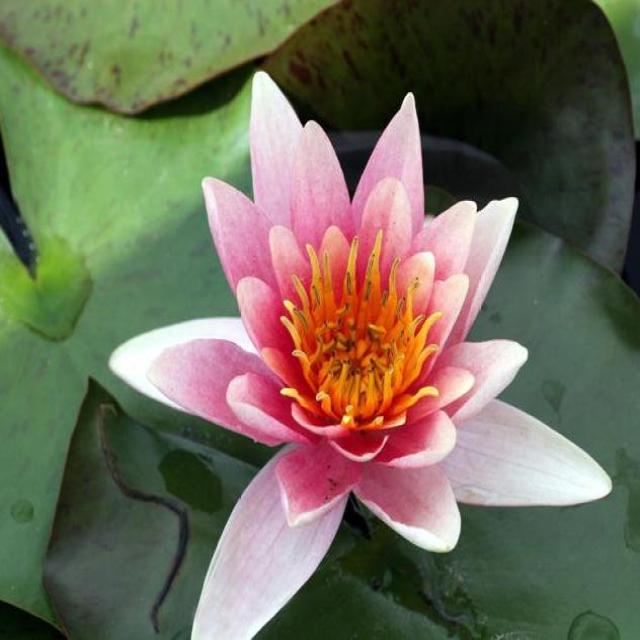water-lily: (88, 57, 622, 640)
